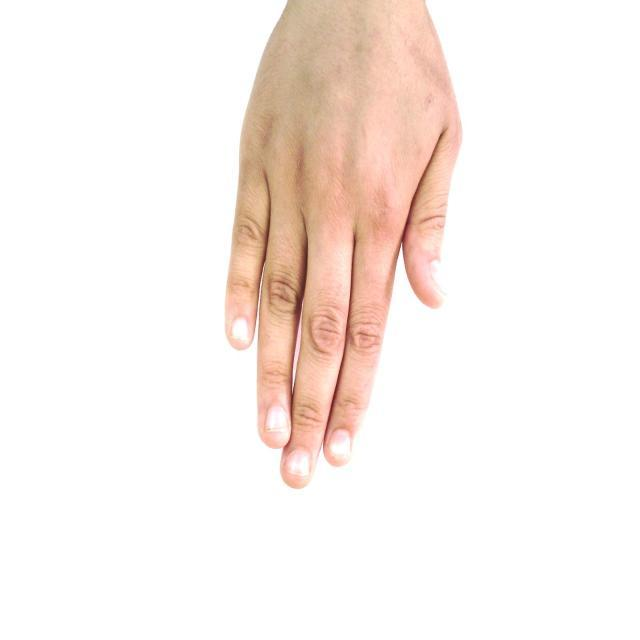Fingernail: (328, 429, 350, 464), (286, 451, 309, 477), (266, 406, 288, 433), (431, 262, 446, 293), (232, 318, 249, 343)
